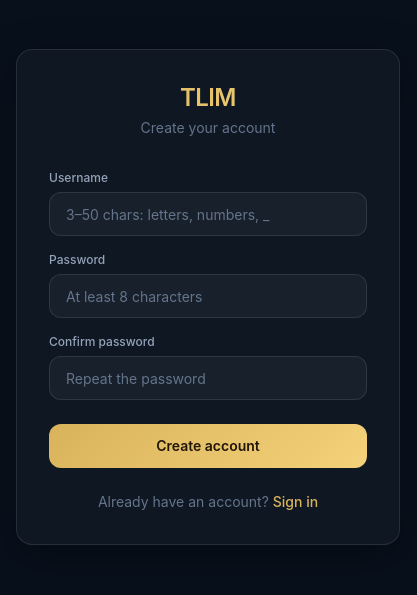
Test: RegisterPage › validates like the backend before calling it
The width and height of the screenshot is (417, 595).
Type "ab!" into the field labelled "Username".
click(208, 214); type("ab!")  # box left=49, top=192, right=367, bottom=236
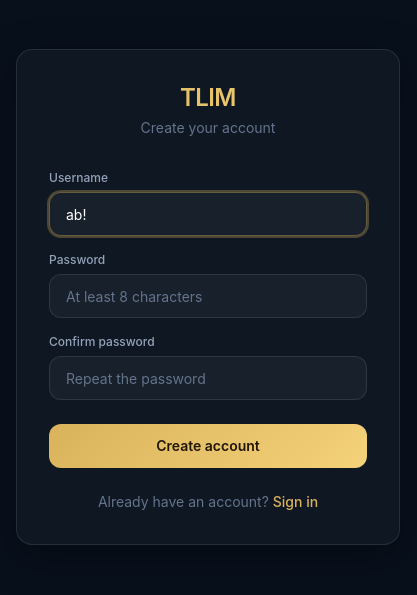
Type "short" into the password field labelled "Password".
click(208, 296); type("short")  # box left=49, top=274, right=367, bottom=318
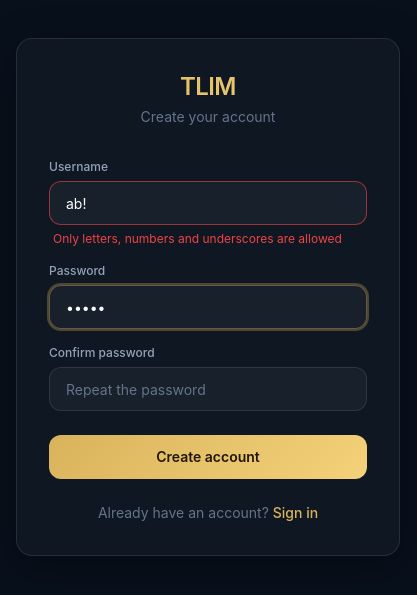
Type "other" into the password field labelled "Confirm password".
click(208, 389); type("other")  # box left=49, top=367, right=367, bottom=411
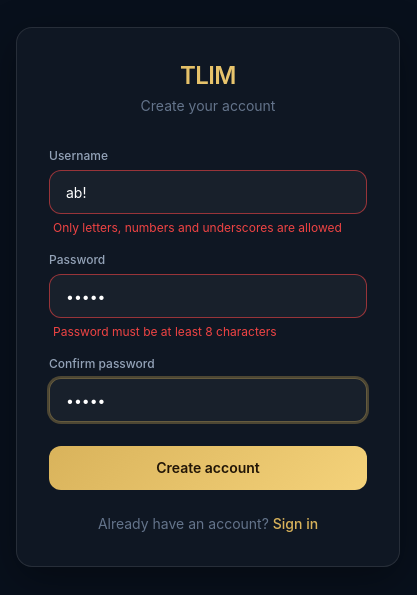
Click the button "Create account".
click(208, 468)  # box left=49, top=446, right=367, bottom=490
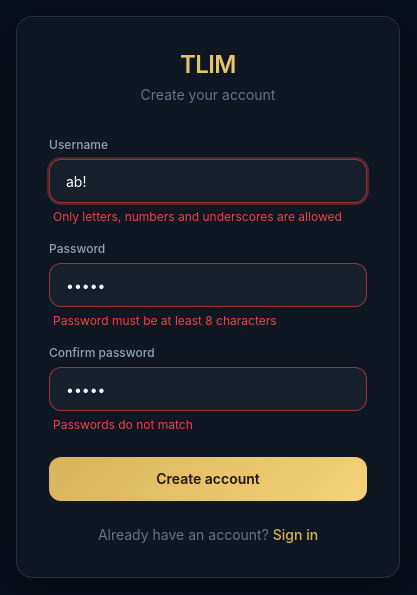
Check: the text "Only letters, numbers and underscores are allowed" is shown, box left=49, top=209, right=367, bottom=225
Check: the text "Password must be at least 8 characters" is shown, box left=53, top=313, right=277, bottom=328
Check: the text "Passwords do not match" is shown, box left=53, top=417, right=193, bottom=432
